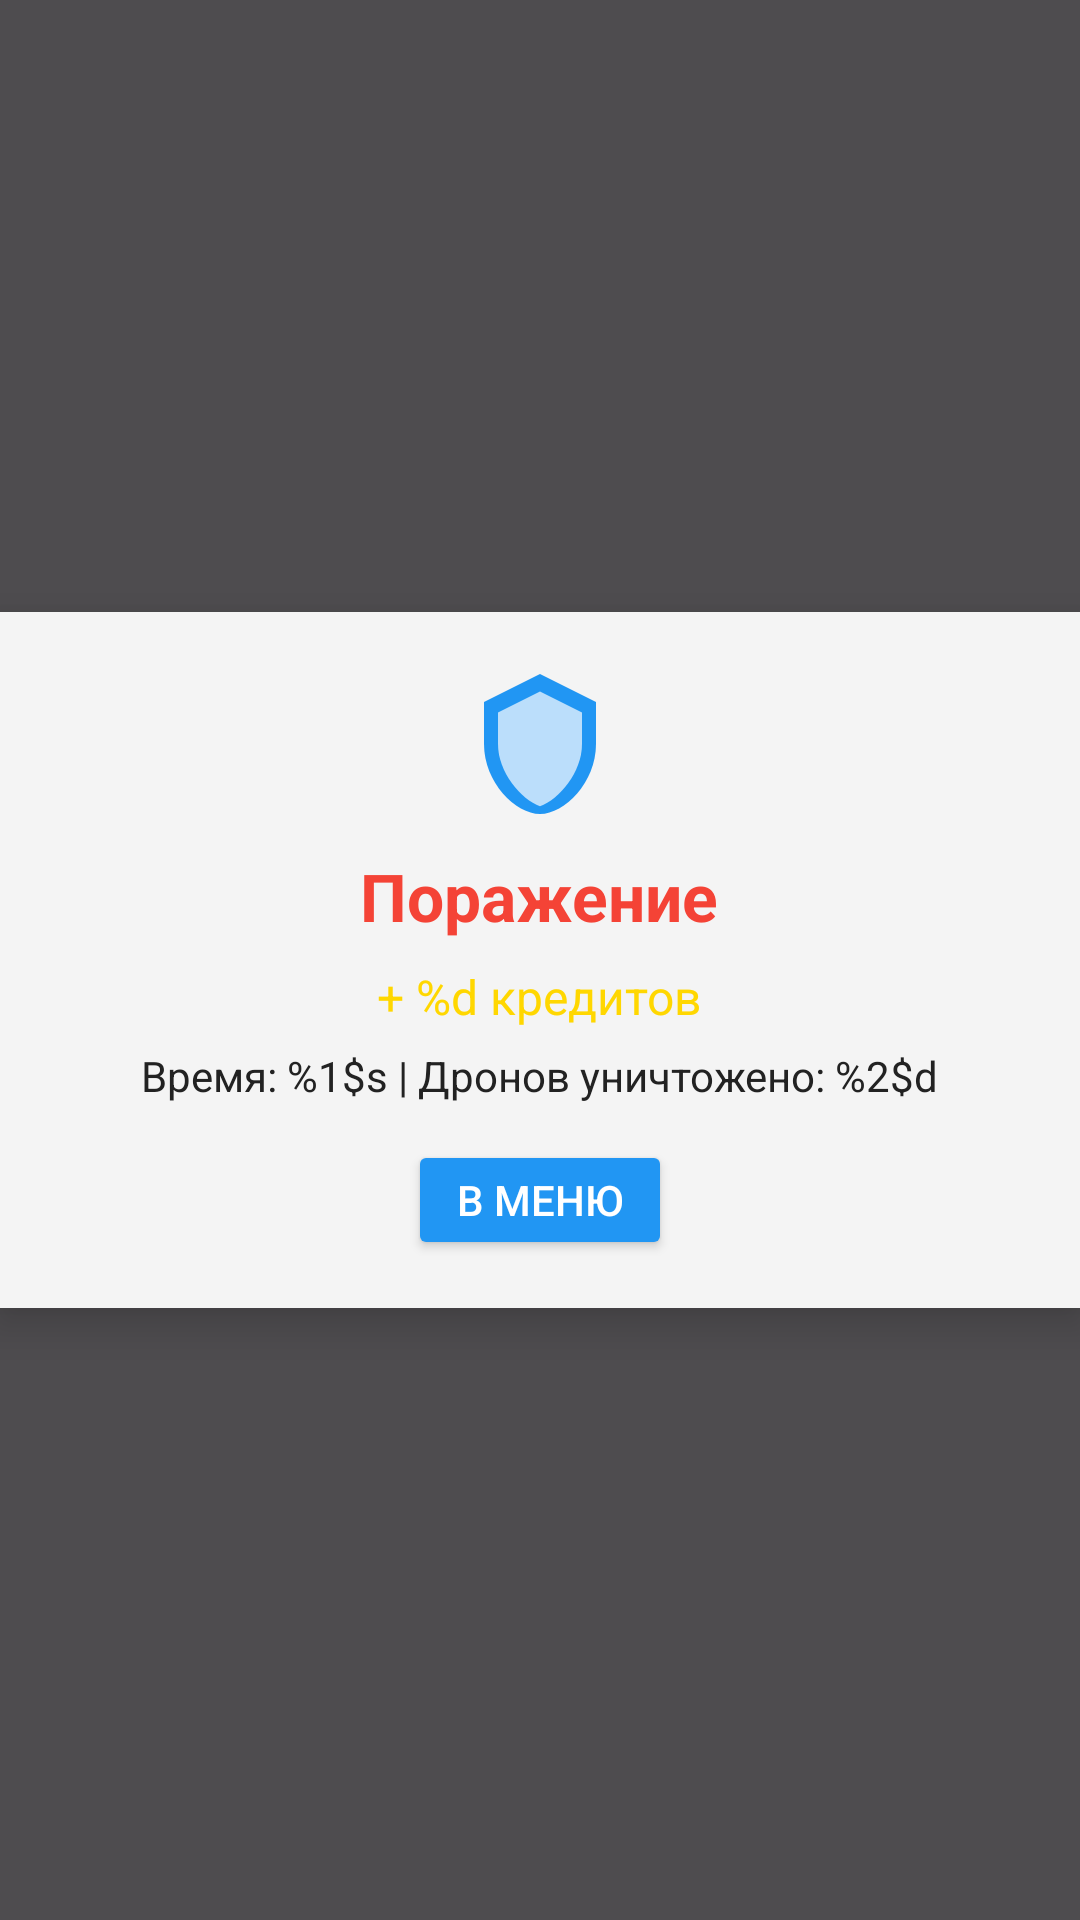

Named icons in this screenshot (1080*1920) and their bounding boxes, bbox=(x1, y1, x2, y2):
shield: bbox=(484, 674, 596, 814)
